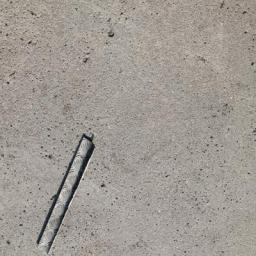FOD: (33, 129, 97, 256)
